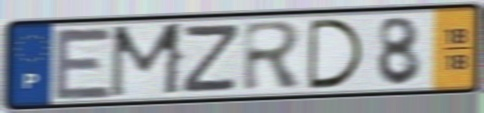8: (375, 14, 425, 88)
D: (306, 17, 368, 92)
E: (51, 26, 116, 102)
M: (106, 20, 188, 101)
R: (241, 18, 306, 94)
Z: (178, 21, 244, 95)
